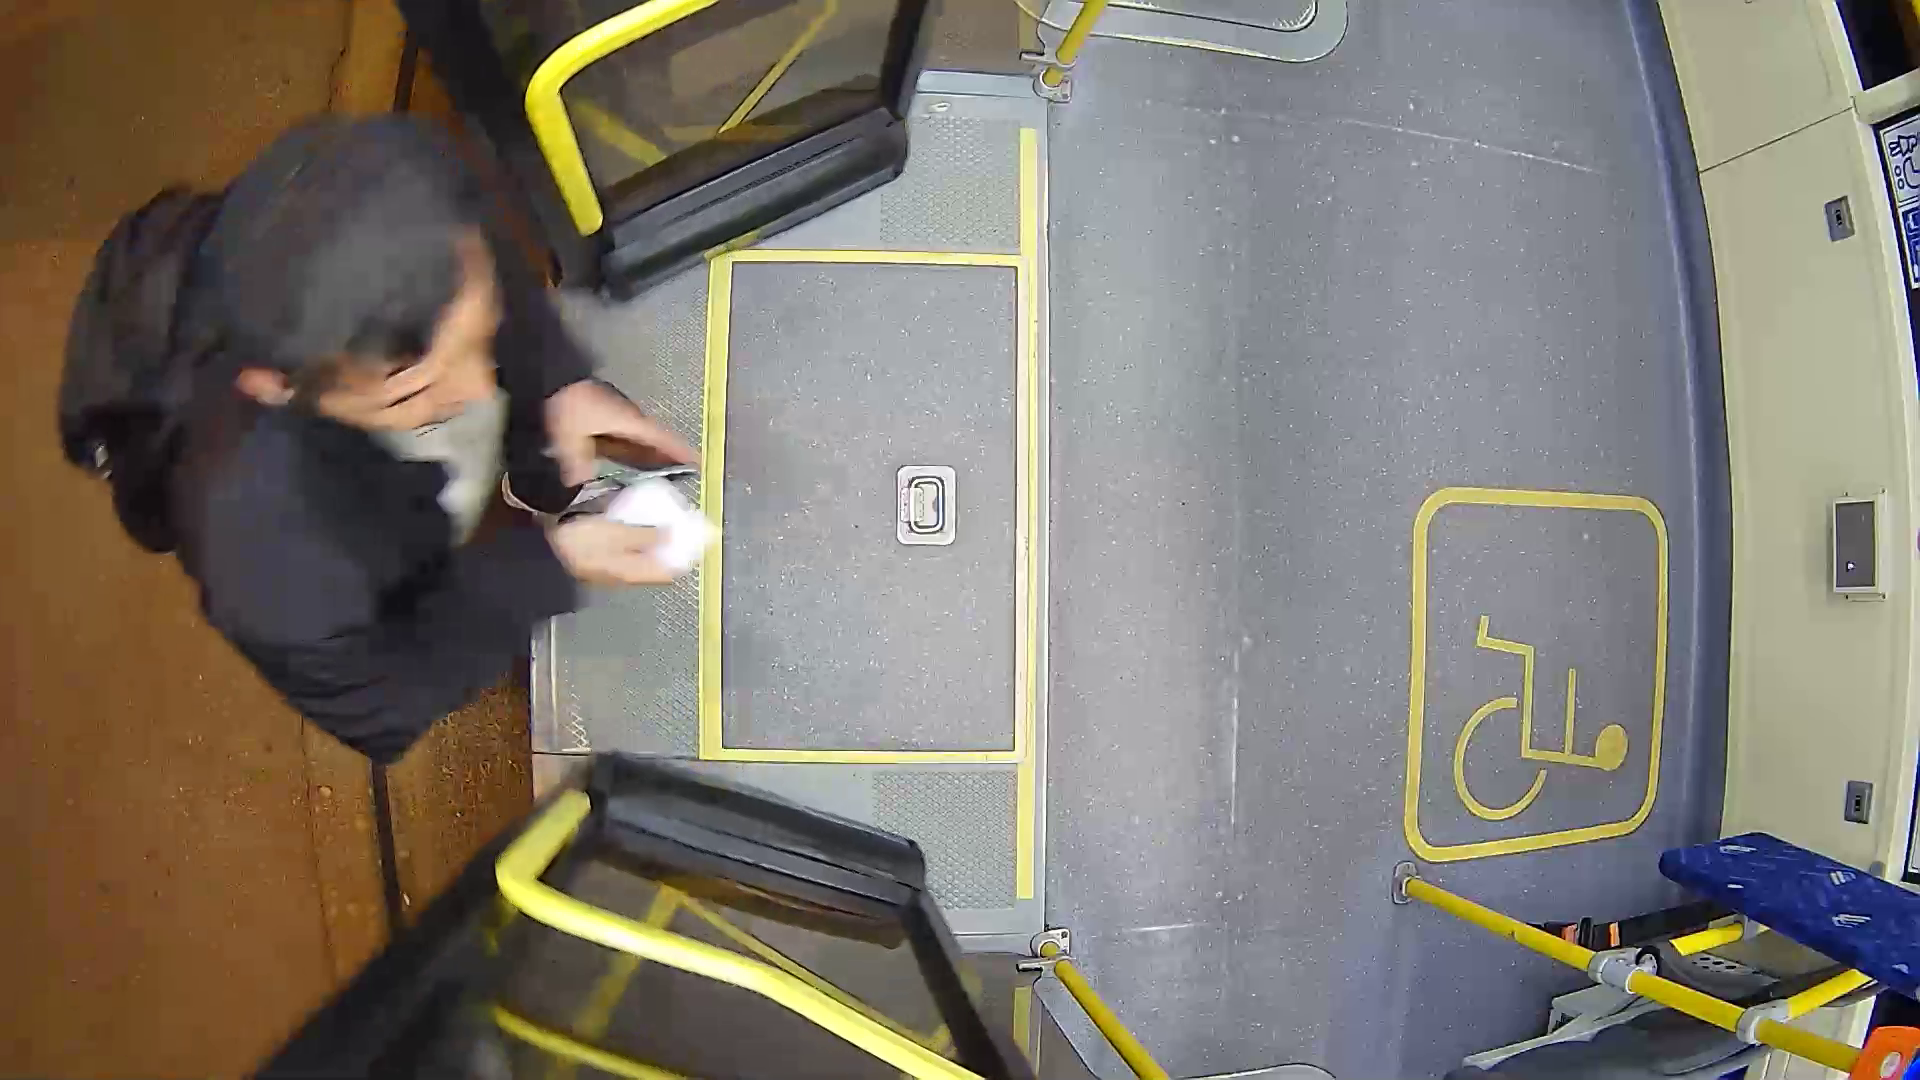person: (46, 126, 748, 729)
